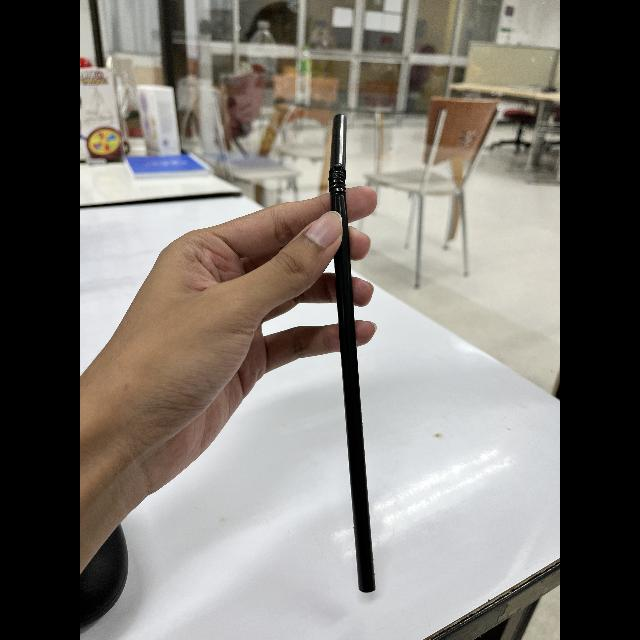straw: (323, 105, 381, 595)
